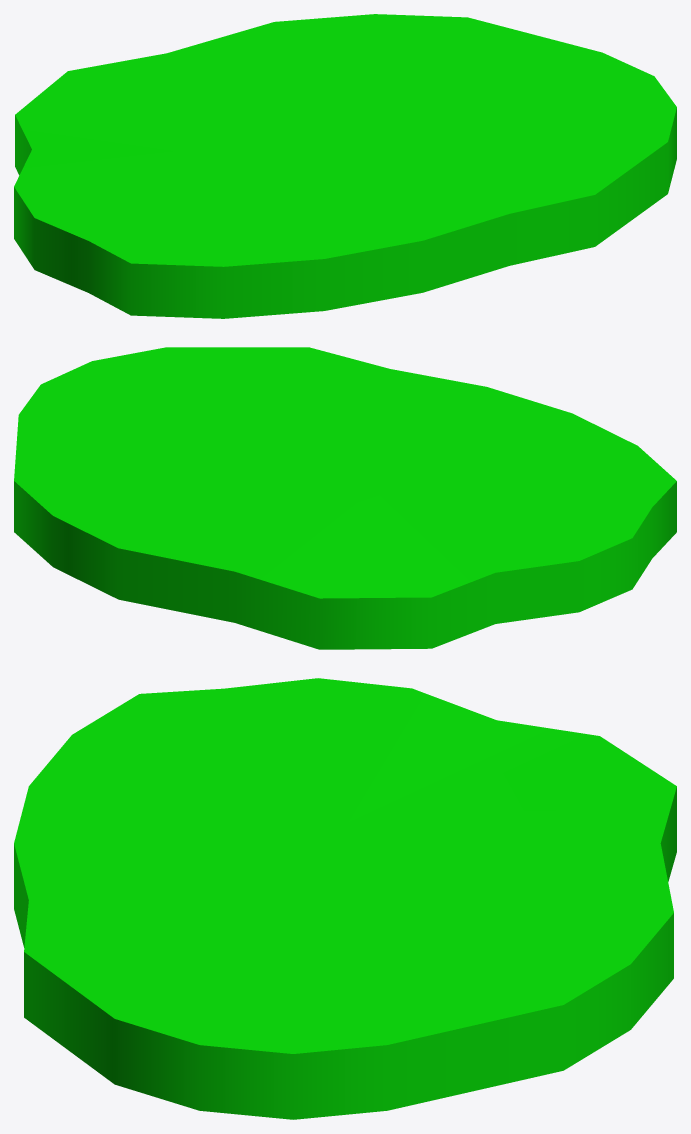
Rendered from island.fbx.
3 views of the same model, one above another, from view 1: azimuth 30°, elevation 25°; view 2: azimuth 150°, elevation 25°; view 3: azimuth 270°, elevation 25° (orthographic). The views are drawn at different scales.
Parts seen in each view (by area): view 1: pCylinder1; view 2: pCylinder1; view 3: pCylinder1.
Boxes of the visible parts, x1,y1,x2,y2 form: pCylinder1: (14,14,676,318); pCylinder1: (14,347,676,649); pCylinder1: (14,678,676,1119).
Size of the model in its own units: 2906 by 241 by 2166.
